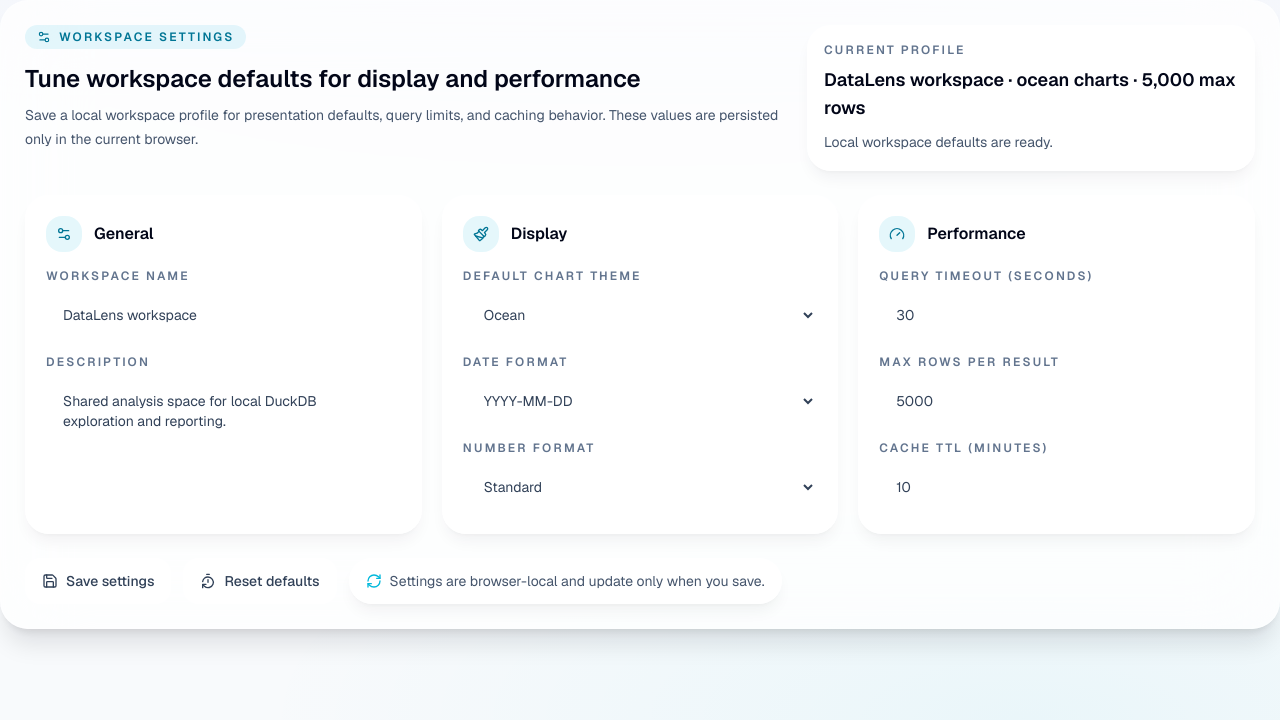
Test: WorkspaceSettings › resets the workspace settings back to defaults
Clear the field labelled "Workspace name" at (223, 315), box [46,292,401,338]
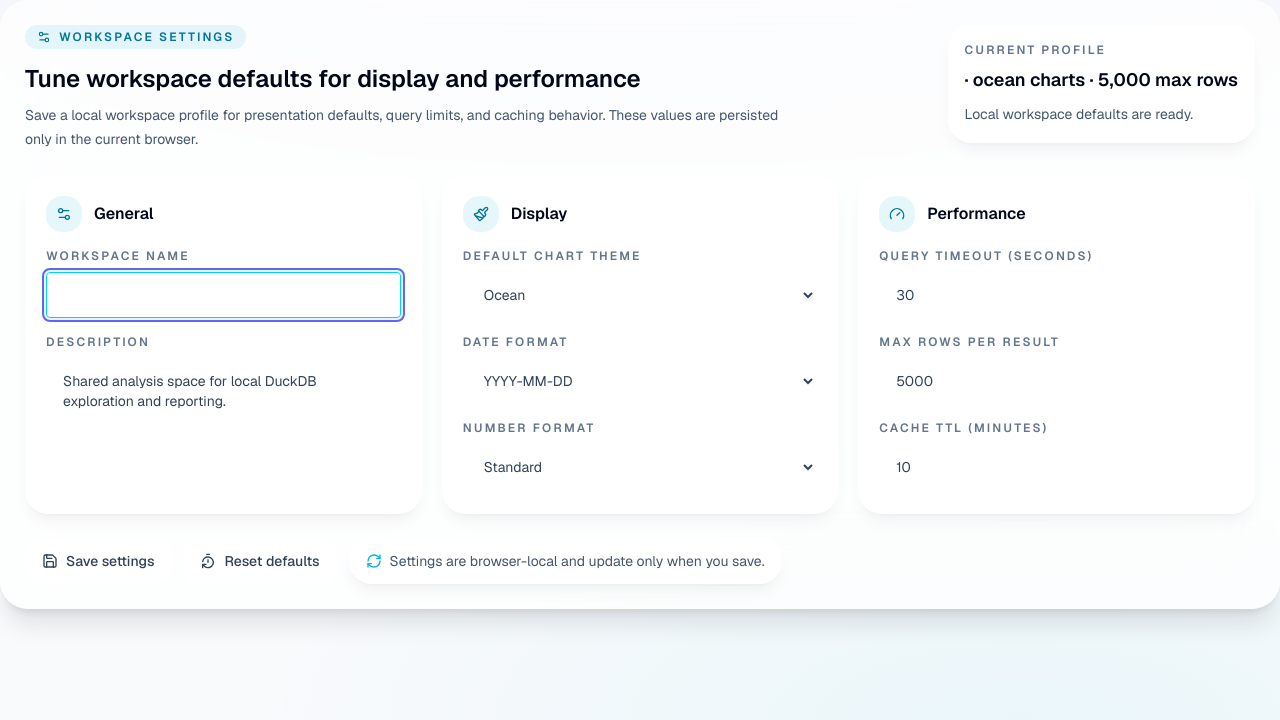
Type "Ops Lab" into the field labelled "Workspace name" at (223, 295), box [46,272,401,318]
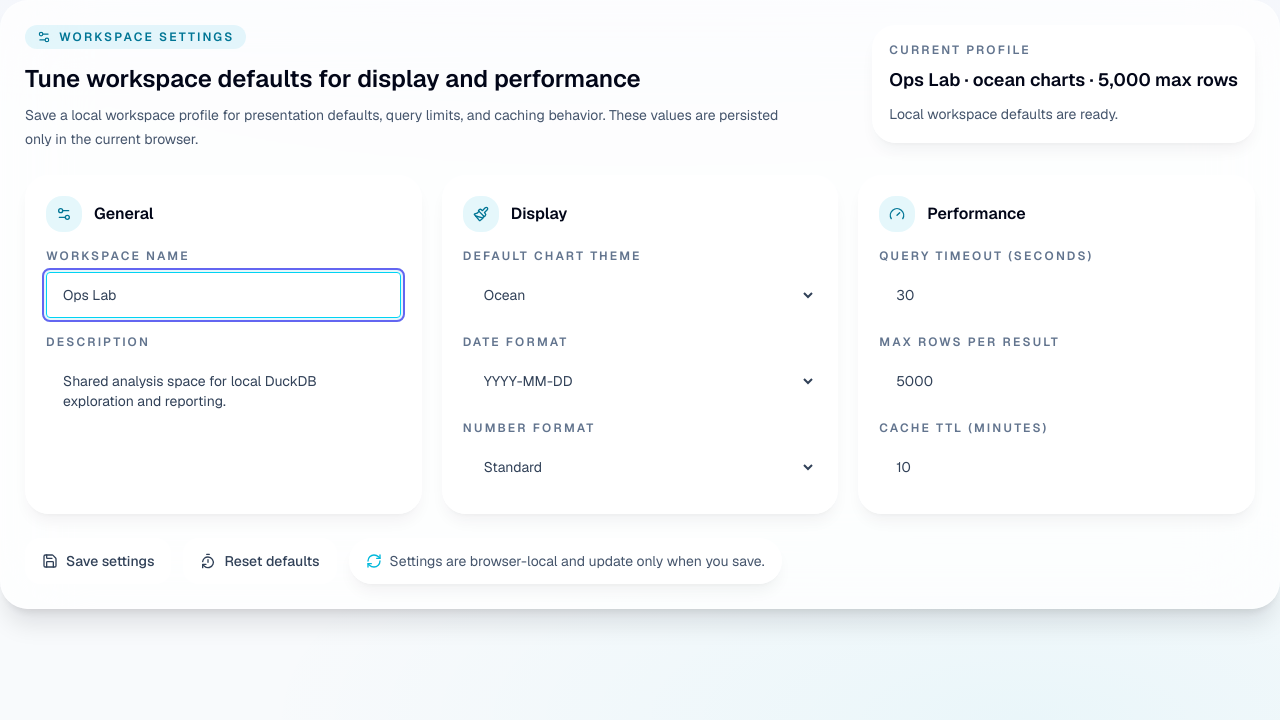
Click the button "Reset defaults" at (260, 561), box [184,538,337,584]
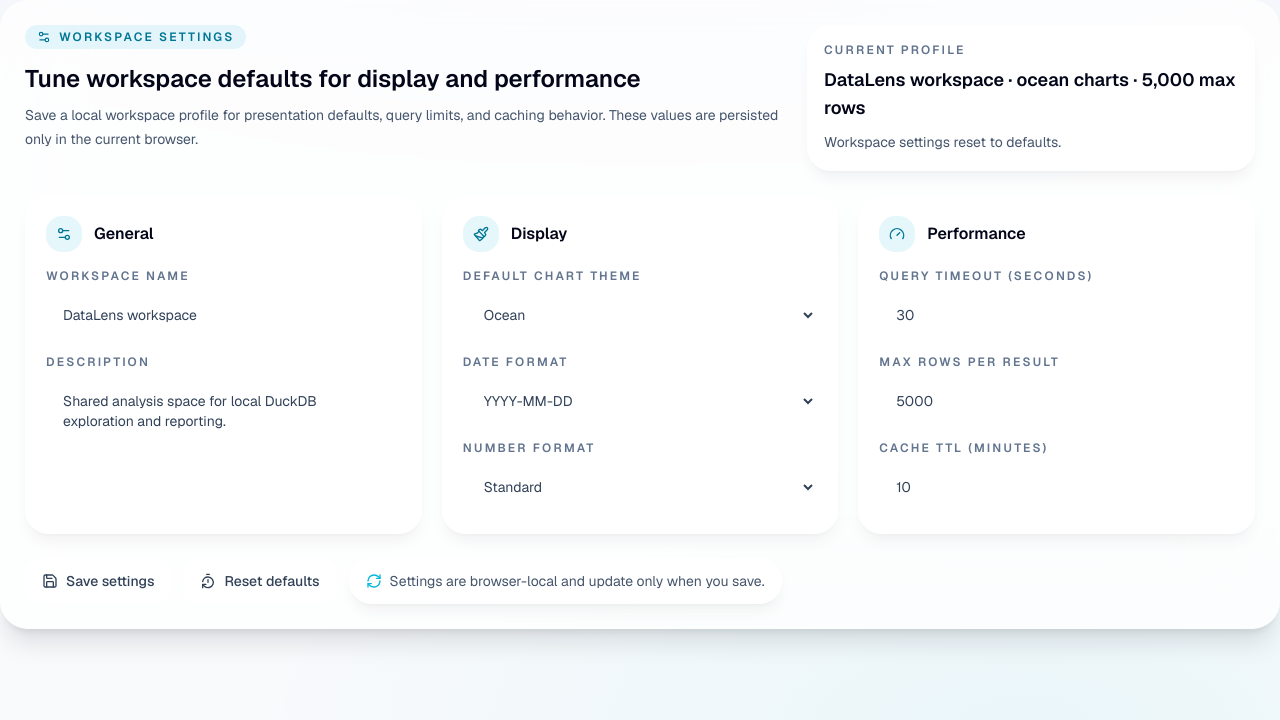
Result: the field showing "DataLens workspace" is shown at [46,292,401,338]
Result: the text "Workspace settings reset to defaults." is shown at [824,133,1061,151]
